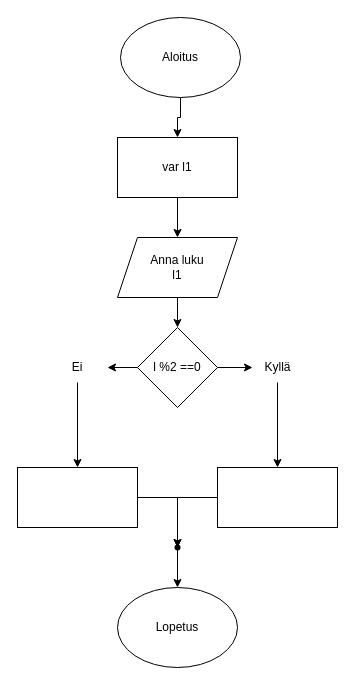
Some shapes in this 355 by 685 pixel diagram are drawn without their labels. Each missing label, with the centre of its shape:
tulostaa "Luku on parillinen": (x=277, y=497)
tulostaa "Luku on pariton": (x=77, y=497)
